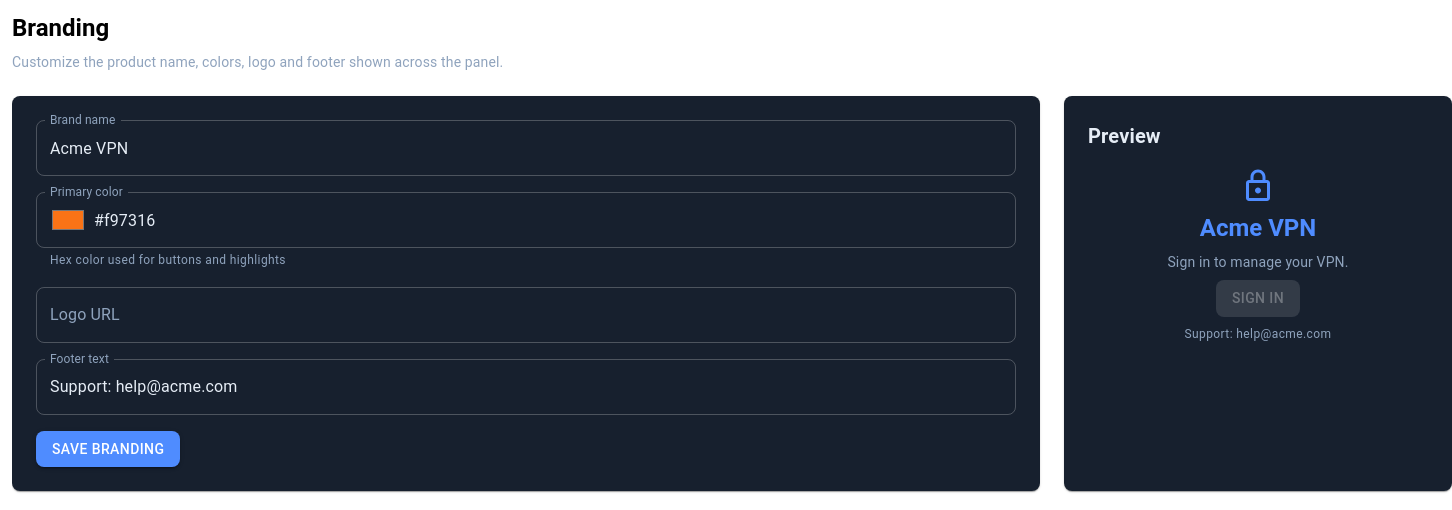
Test case: BrandingPage › blocks saving an invalid hex color
Replace the text in the field labelled "Primary color" with "orange": (555,220) [94,192,1016,248]
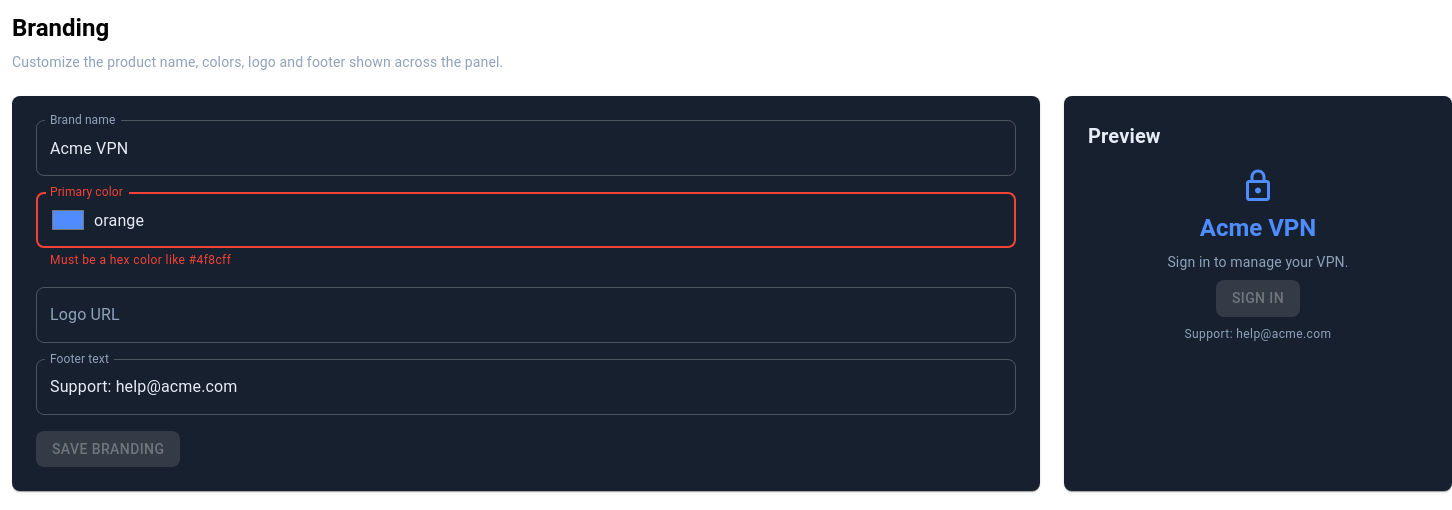
Result: the button "Save branding" is disabled at [36,431,180,467]
